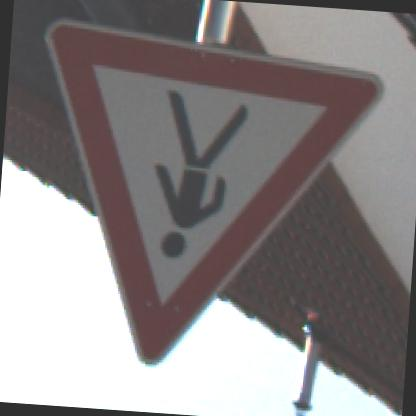crosswalk: (12, 13, 396, 376)
